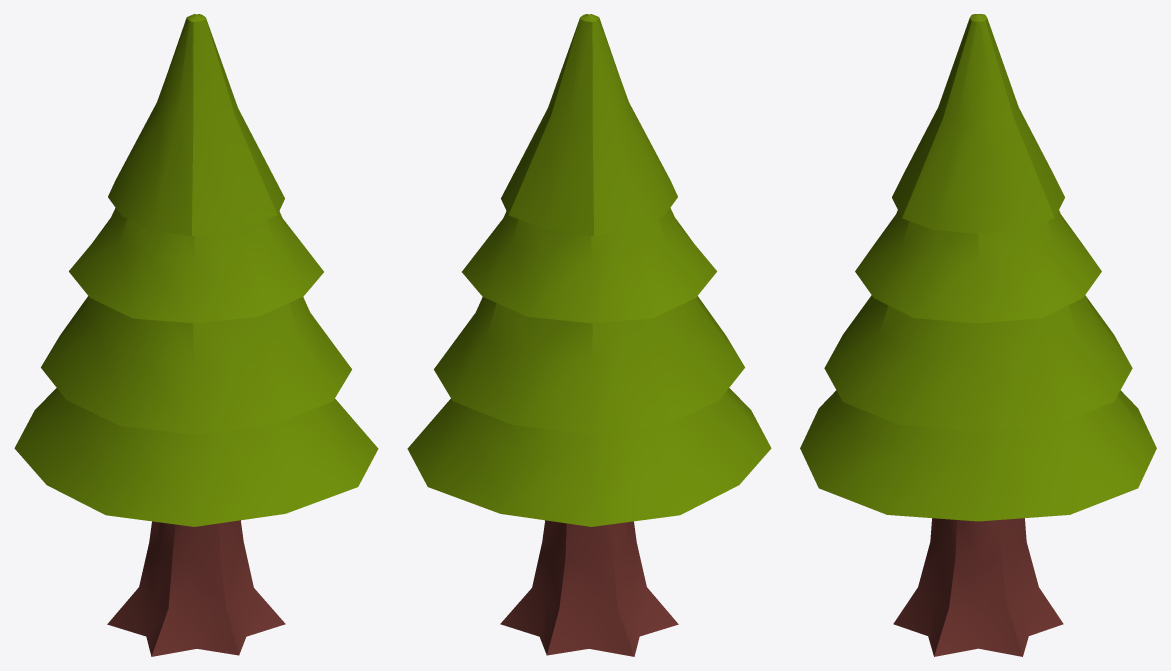
The model's file is VR.fbx_arbol_claro.fbx.
3 views of the same model, side by side, from view 1: azimuth 30°, elevation 25°; view 2: azimuth 150°, elevation 25°; view 3: azimuth 270°, elevation 25° (orthographic).
Parts seen in each view (by area): view 1: arbol claro; view 2: arbol claro; view 3: arbol claro.
Part boxes in pixels (x1,y1,x2,y2): arbol claro: [14, 14, 378, 656]; arbol claro: [407, 14, 771, 656]; arbol claro: [800, 14, 1156, 656].
Size of the model in its own units: 121 by 235 by 125.
